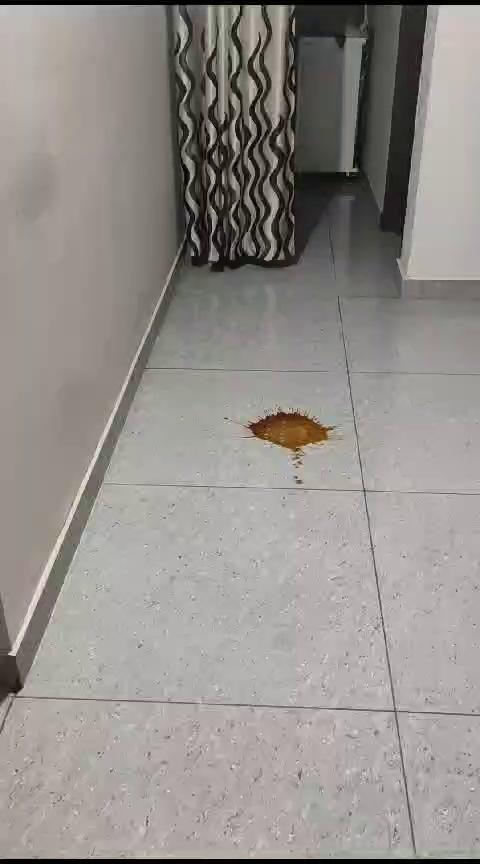dirty_floor: (228, 385, 351, 487)
